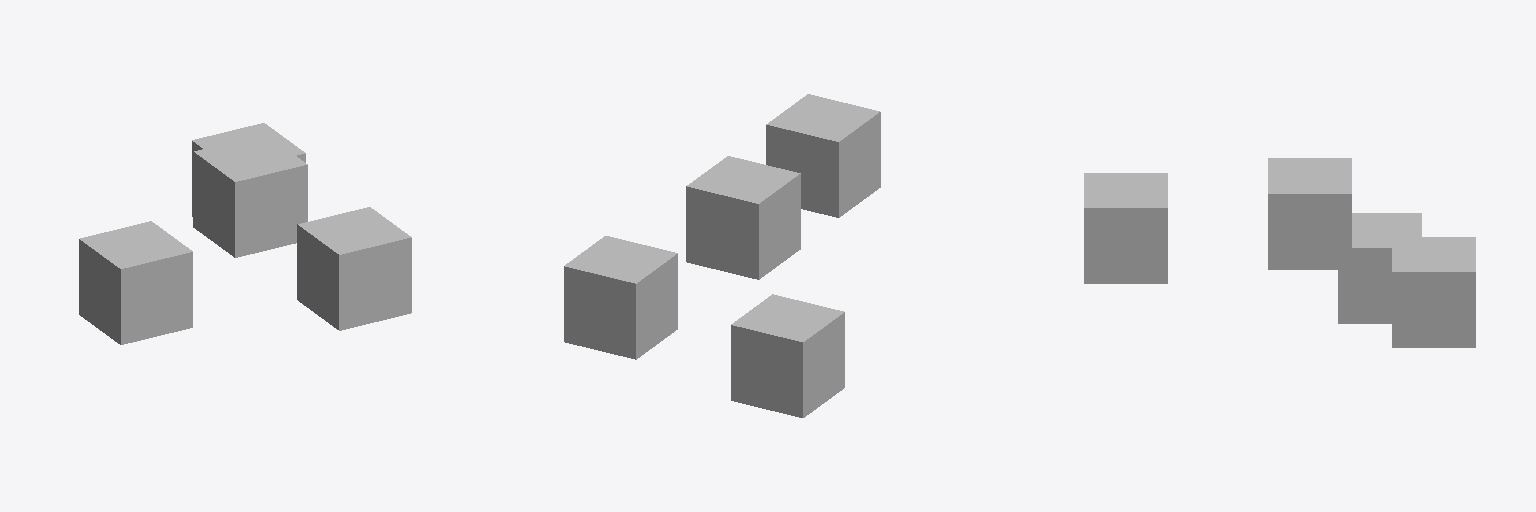
File: cubos.obj
The picture shows the model from 3 angles: view 1: azimuth 30°, elevation 25°; view 2: azimuth 150°, elevation 25°; view 3: azimuth 270°, elevation 25°; orthographic projection.
Visible parts, largest first — view 1: Cube.001, Cube.002, Cube, Cube.003; view 2: Cube, Cube.003, Cube.002, Cube.001; view 3: Cube, Cube.001, Cube.003, Cube.002.
Part boxes in pixels (left/top/right/bottom): Cube.001: left=297, top=207, right=411, bottom=330; Cube.002: left=79, top=221, right=192, bottom=344; Cube: left=193, top=134, right=307, bottom=257; Cube.003: left=192, top=123, right=305, bottom=216; Cube: left=686, top=156, right=800, bottom=279; Cube.003: left=564, top=236, right=677, bottom=359; Cube.002: left=731, top=294, right=844, bottom=417; Cube.001: left=766, top=94, right=880, bottom=217; Cube: left=1268, top=158, right=1351, bottom=269; Cube.001: left=1084, top=173, right=1167, bottom=283; Cube.003: left=1392, top=237, right=1475, bottom=347; Cube.002: left=1338, top=213, right=1421, bottom=323.
Bounding box in the file's own units: 5.85 × 4.46 × 9.36.